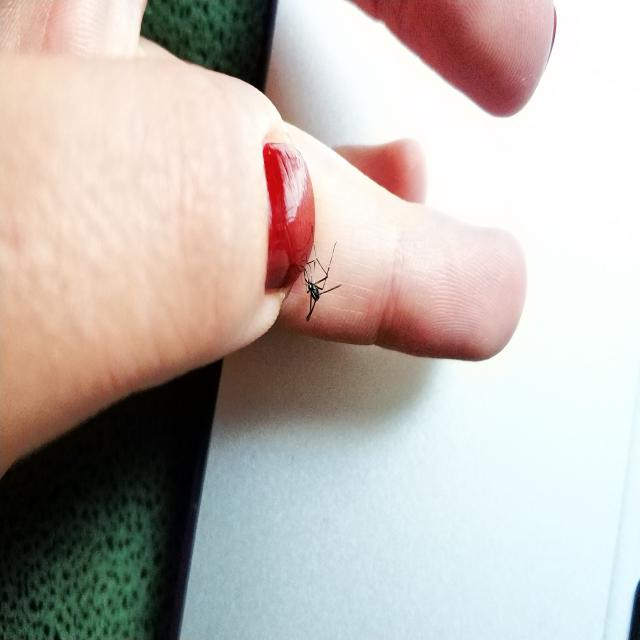albopictus: (298, 228, 342, 323)
